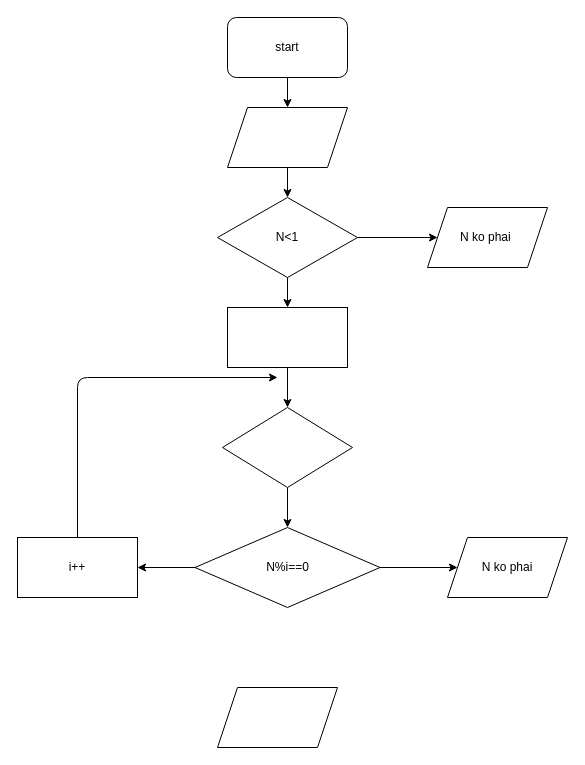
Image size: 585x765. Some labels were removed from this diagram. Here are the shapes that lost their labels. From the top down, the centre of each, then its label:
[287,137]: nhap N
[287,337]: i=2
[287,447]: i<N
